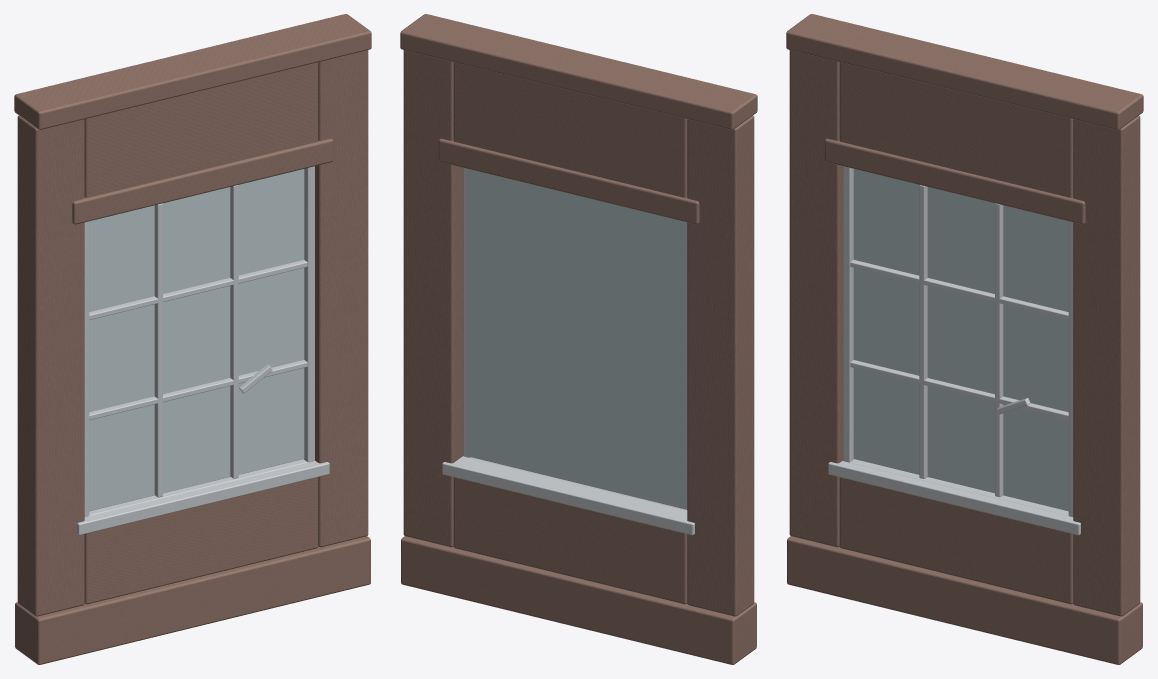
Rendered from printing-press-and-newspaper-office-window-wall-bay-2a601e56__37767.glb.
3 renders of one model, left to right at view 1: azimuth 30°, elevation 25°; view 2: azimuth 150°, elevation 25°; view 3: azimuth 330°, elevation 25°, orthographic.
Parts seen in each view (by area): view 1: window-wall-bay; view 2: window-wall-bay; view 3: window-wall-bay.
Boxes of the visible parts, bbox=[...] form: window-wall-bay: bbox=[14, 14, 371, 664]; window-wall-bay: bbox=[400, 14, 757, 664]; window-wall-bay: bbox=[786, 14, 1143, 664].
Bounding box in the file's own units: 3 × 4.76 × 0.3998.
3 materials, 1 textured.
